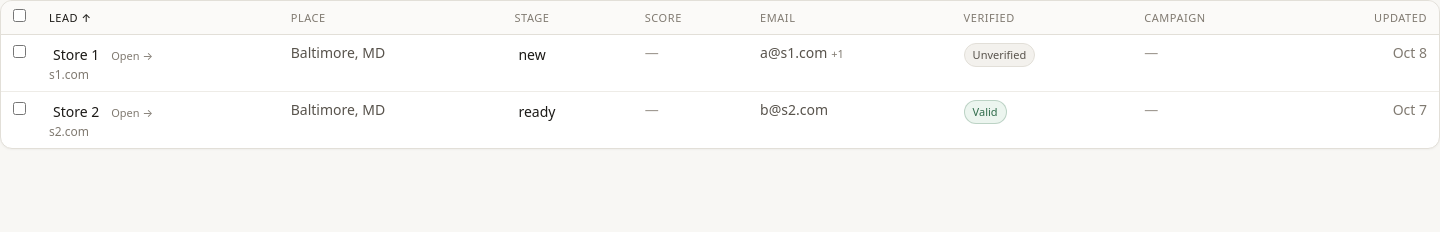
Test case: LeadsTable › select-all picks the page; selecting only verified leads disables Verify
The image size is (1440, 232).
Click the checkbox named "Select Store 2" at {"x": 20, "y": 108}, box [13,102,26,115]
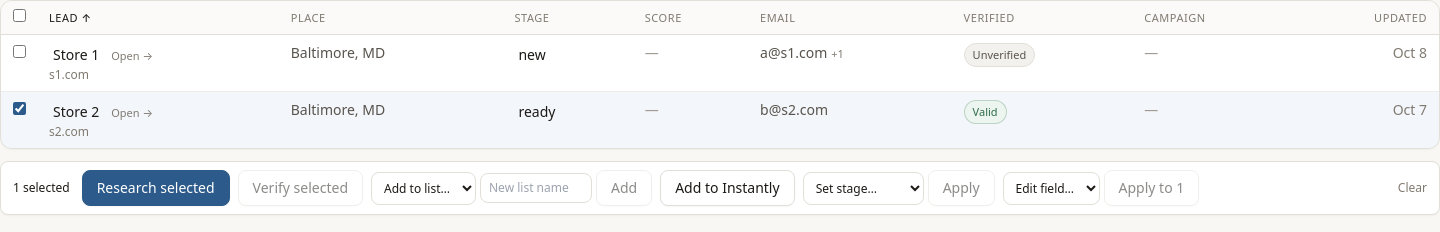
Expected: the element named "Selected leads" shows "Verify selected", [253,178,348,197]
Click the checkbox named "Select all on this page" at {"x": 20, "y": 16}, box [13,9,26,22]
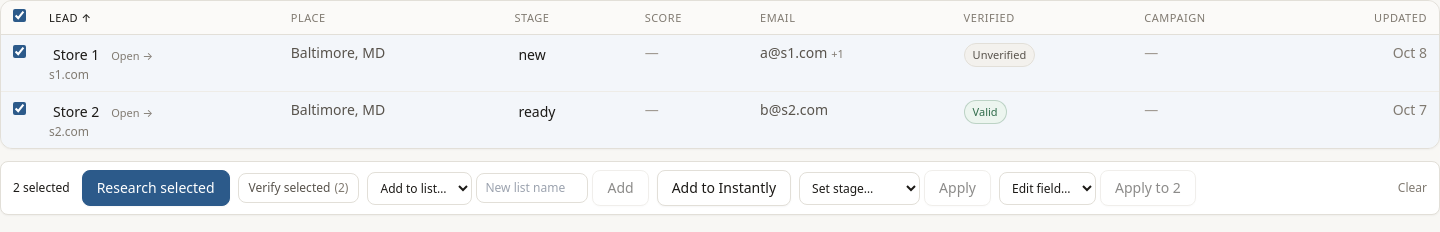
Expected: the element named "Selected leads" shows "2 selected", [0,161,1439,215]
